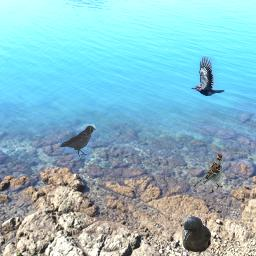Crow: (59, 124, 96, 160), (182, 216, 211, 256)
Sparrow: (192, 153, 223, 193)
Woodpecker: (191, 56, 225, 96)
